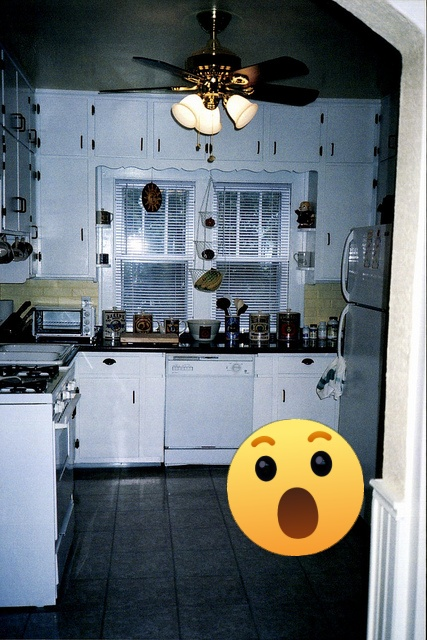wow: (227, 419, 364, 556)
